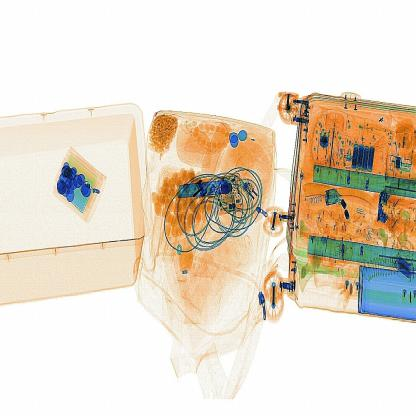pliers: (179, 176, 237, 199)
